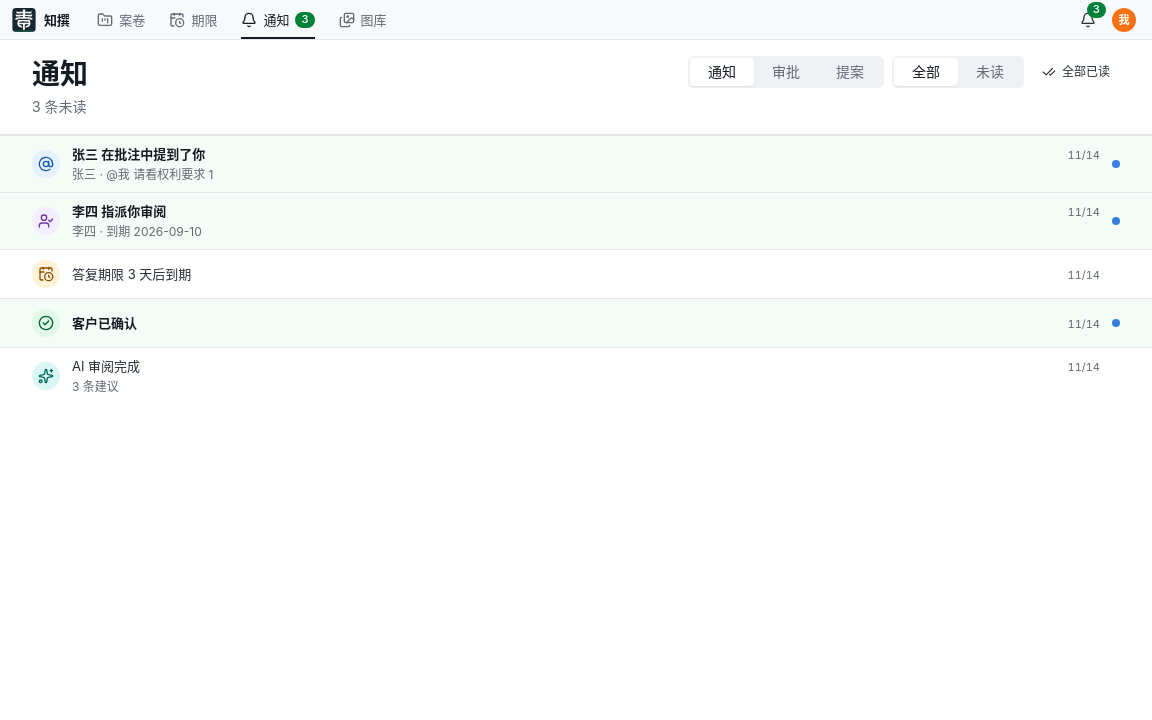
Scenario: InboxPage（§4.2 通知页） › 点击通知 → 标已读 + hash 变为 #/p/<pid>?c=<cid>，审阅 Drawer 打开并滚到该批注
The image size is (1152, 720).
Click the link "张三 在批注中提到了你 11/14 张三 · @我 请看权利要求 1" at point(139, 154), box [0,136,1151,192]
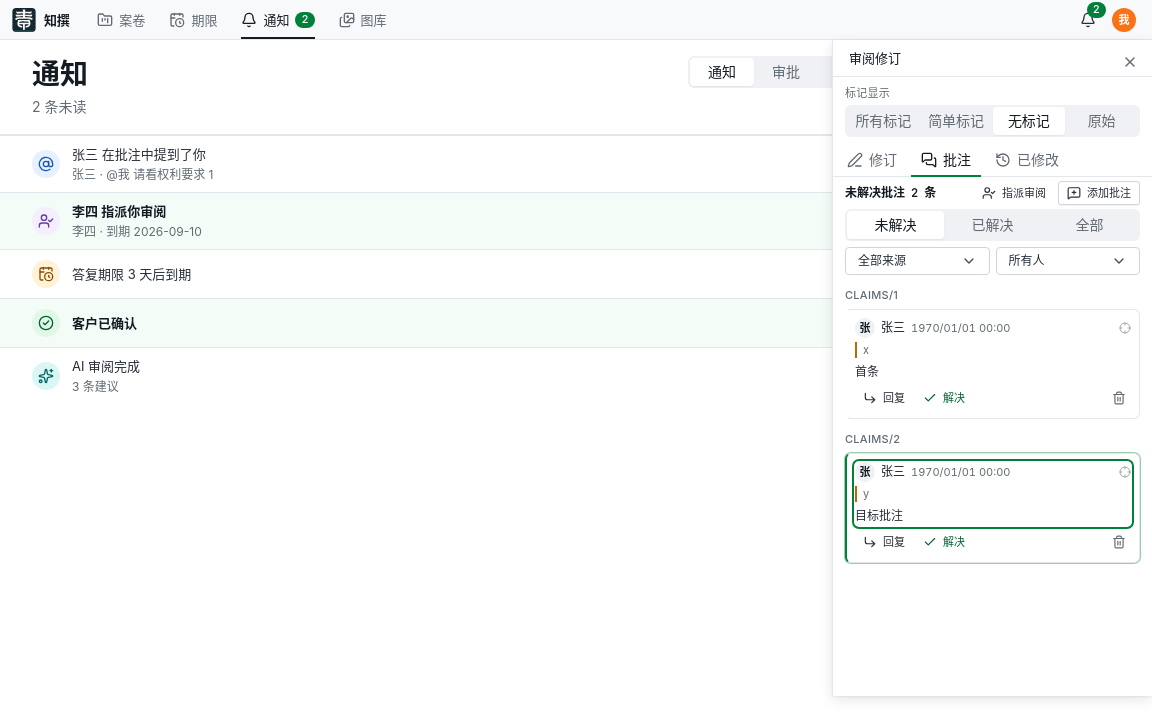
Expected: the dialog with test id "review-drawer" is shown, [832,40,1151,696]
Expected: the list item "张 张三 1970/01/01 00:00 y 目标批注 回复 解决" is shown, [845,453,1140,563]
